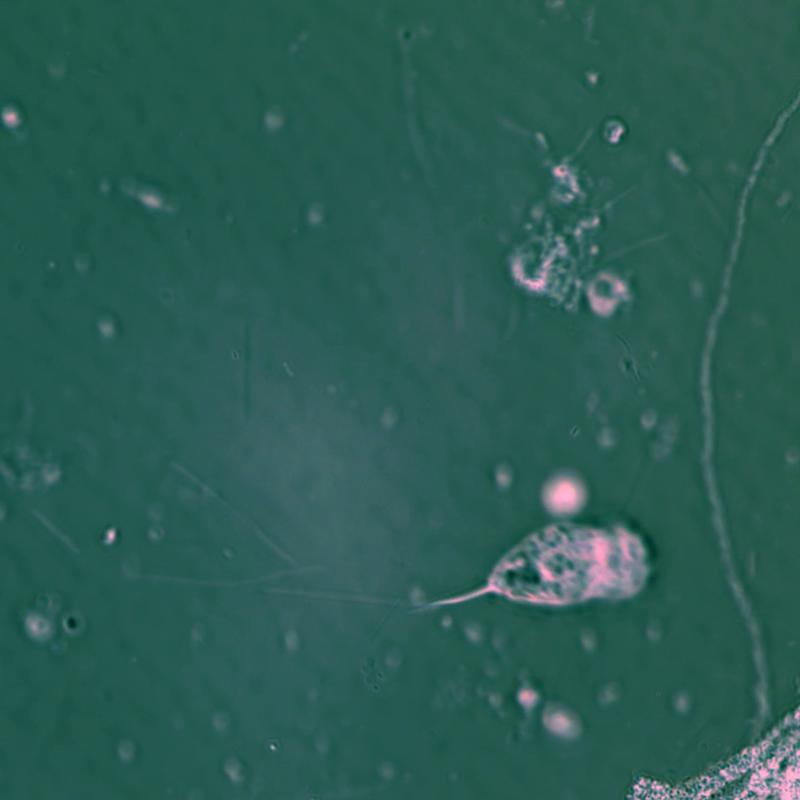depth:40: (383, 480, 720, 650)
